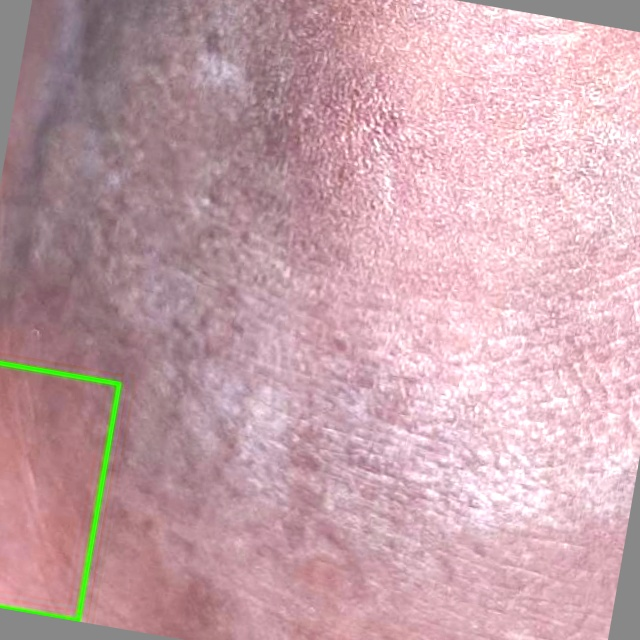Contact Dermatitis: (0, 363, 119, 620)
